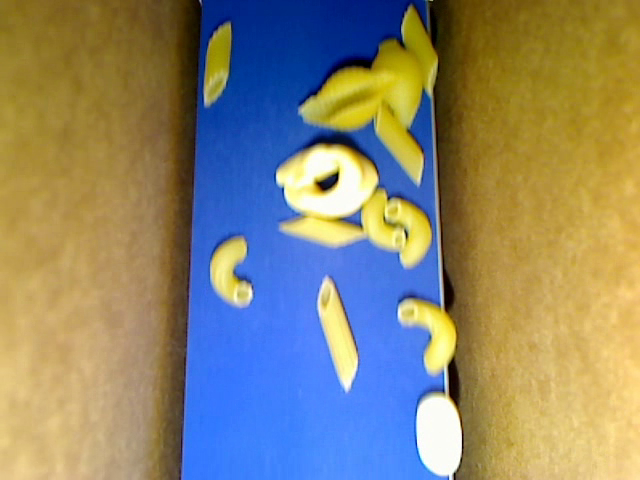elbow: (396, 297, 457, 376), (383, 197, 432, 269), (210, 234, 253, 307), (362, 187, 405, 252)
penne: (317, 275, 358, 395), (372, 100, 424, 187), (398, 2, 439, 97), (277, 213, 364, 248), (201, 22, 231, 107)
shell: (297, 65, 401, 132), (370, 40, 422, 131)
tortellini: (274, 143, 378, 219)
